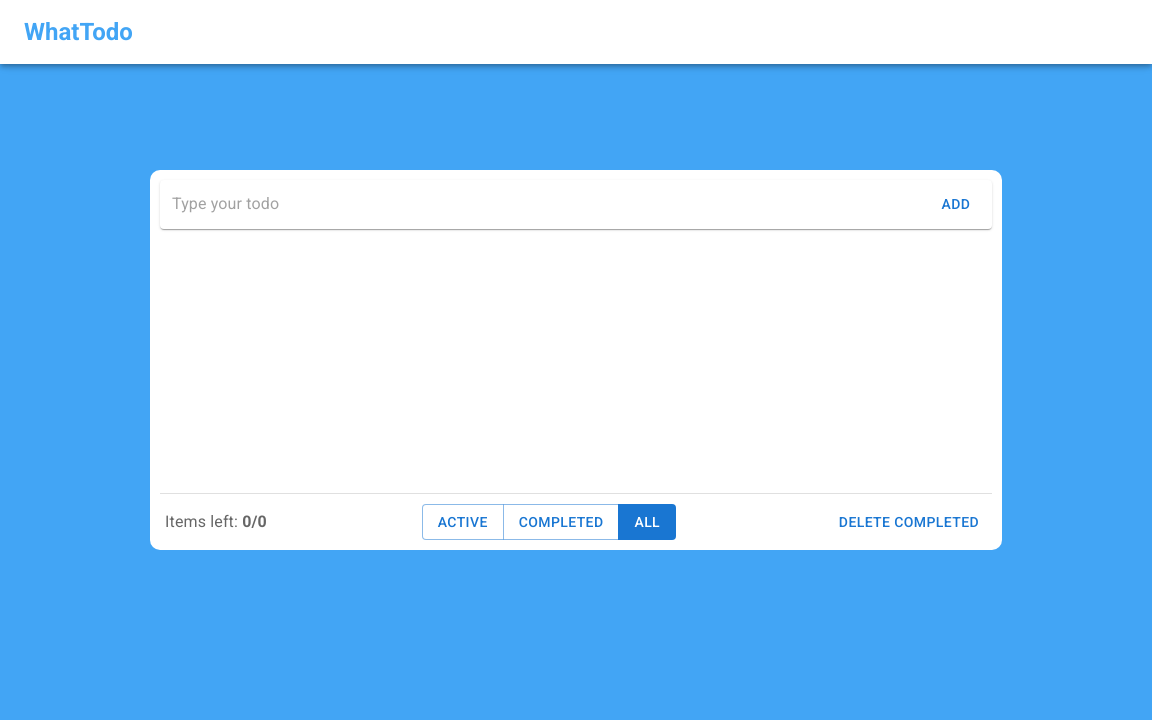
Test case: TodoListItem functionality tests › should delete a todo when user click delete button
The image size is (1152, 720).
Type "Write tests" into the field with placeholder "Type your todo" at [548, 204], box [172, 188, 924, 220]
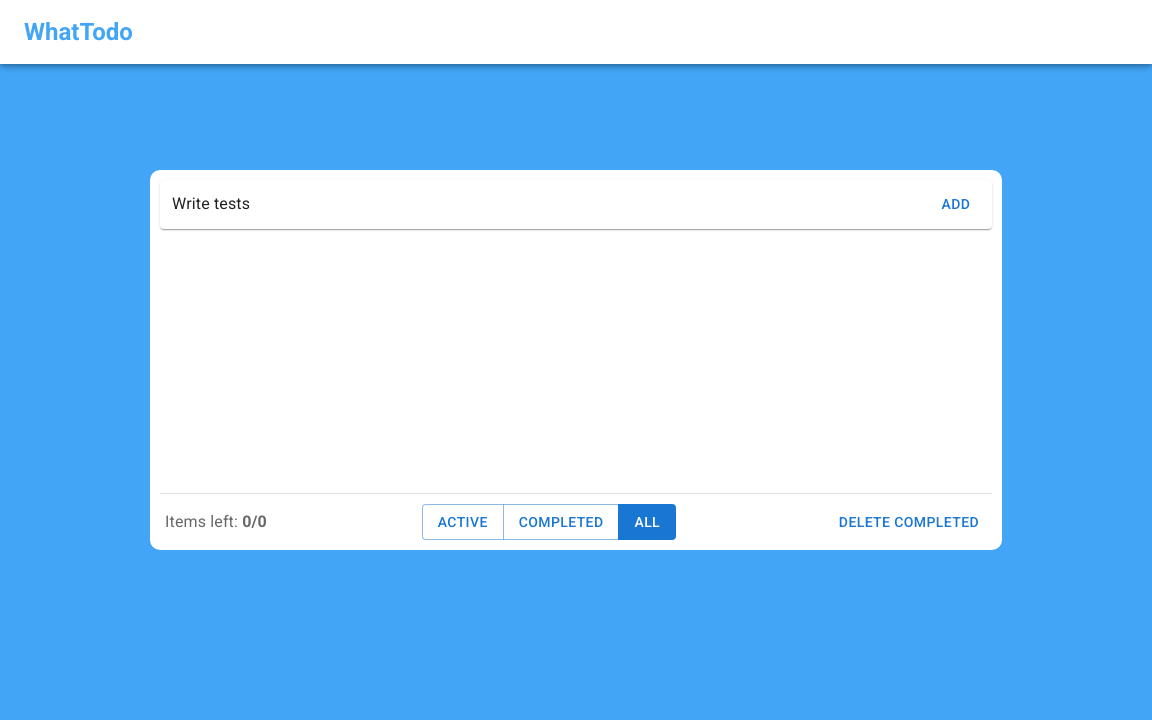
Click the button "Add" at [956, 204], box [924, 182, 988, 226]
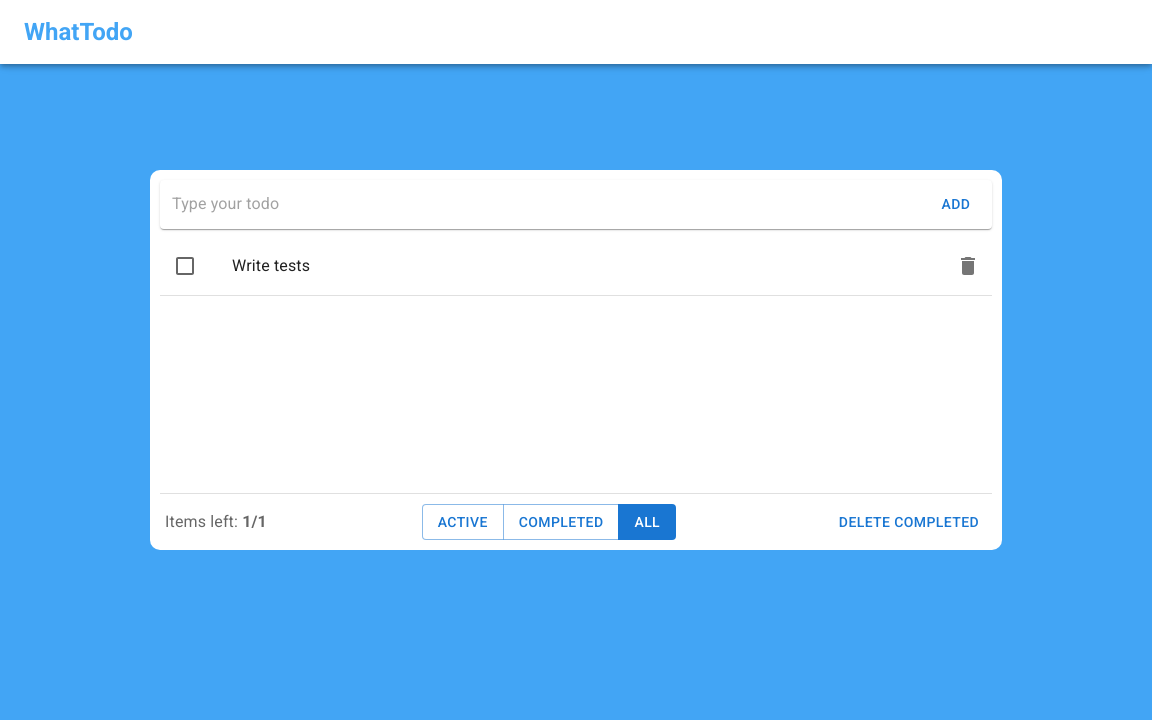
Click the button with test id "todo-delete-btn" at [968, 266], box [948, 246, 988, 286]
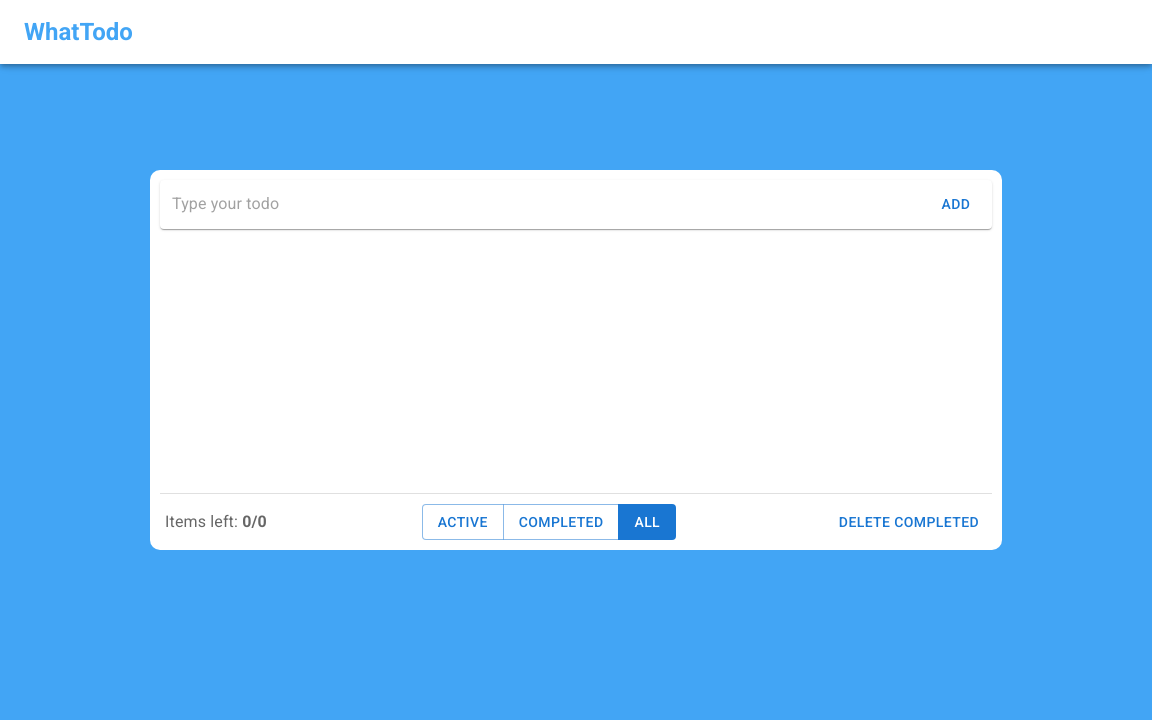
expect the list item with test id "todo-item" is gone: met
